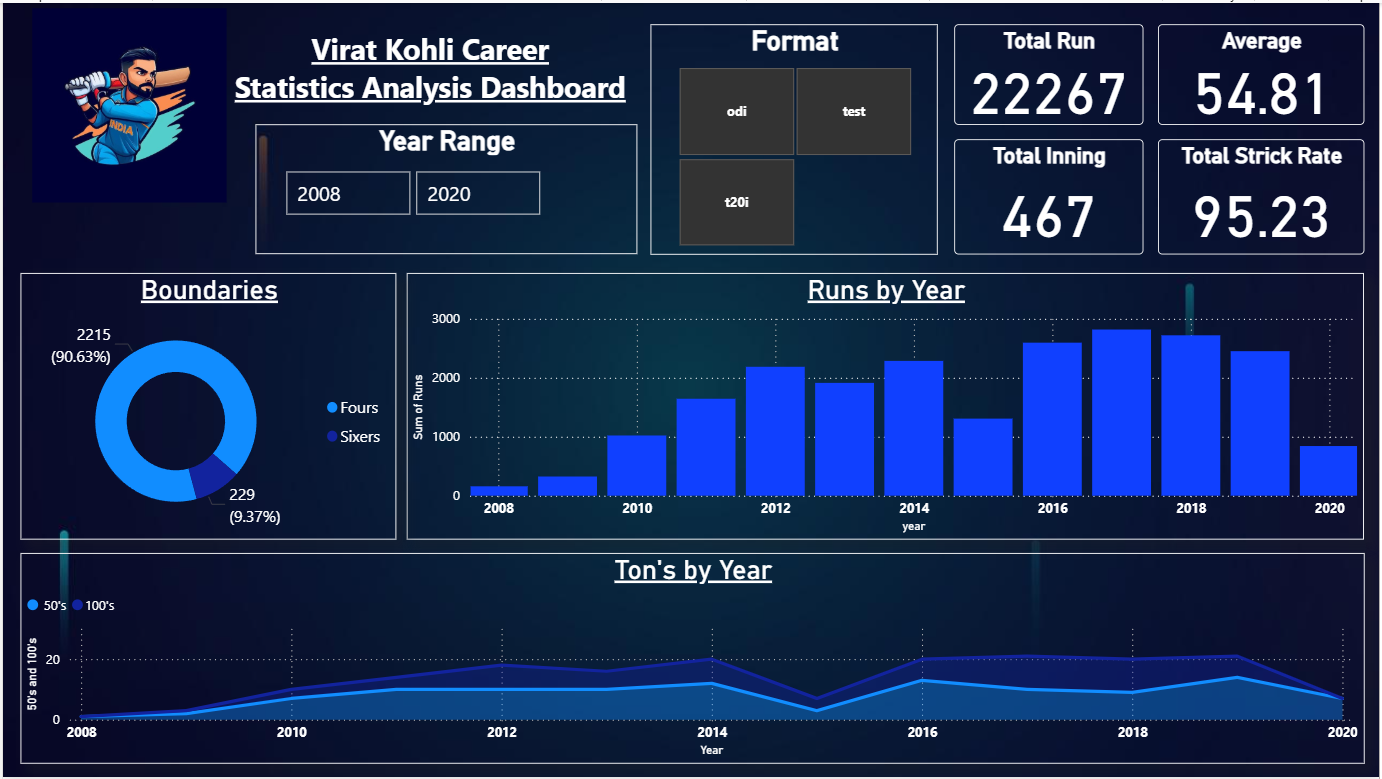

This screenshot's page, from the dashboard's own definition file:
{"tool":"powerbi","page":{"name":"Page 1","canvas":[1280,720],"ordinal":0},"visuals":[{"type":"image","box":[0,0,234.6,190.7],"z":0},{"type":"textbox","box":[204.5,19.2,385.6,124.9],"z":1000},{"type":"card","title":"Total Inning","fields":{"Values":["Samarjeet.Innings"]},"box":[885.1,126.2,175.6,107],"z":2000},{"type":"card","title":"Total Run","fields":{"Values":["Samarjeet.Runs"]},"box":[885.1,19.2,175.6,93.3],"z":3000},{"type":"card","title":"Average","fields":{"Values":["Samarjeet.Avg"]},"box":[1074.4,19.2,192.1,93.3],"z":4000},{"type":"card","title":"Total Strick Rate","fields":{"Values":["Samarjeet.SR"]},"box":[1074.4,126.2,192.1,107],"z":5000},{"type":"slicer","title":"Year Range","fields":{"Values":["Samarjeet.Year"]},"box":[234.6,112.5,355.4,120.8],"z":6000},{"type":"slicer","title":"Format","fields":{"Values":["Samarjeet.Format"]},"box":[602.4,19.2,267.6,214.1],"z":7000},{"type":"clusteredColumnChart","title":"Runs by Year","fields":{"Y":["Samarjeet.Runs"],"Category":["Samarjeet.Year"]},"box":[376,251.1,890.6,248.4],"z":8000},{"type":"donutChart","title":"Boundaries","fields":{"Y":["Samarjeet.4s","Samarjeet.6s"]},"box":[16.5,251.1,349.9,248.4],"z":9000},{"type":"stackedAreaChart","title":"Ton''s by Year","fields":{"Category":["Samarjeet.Year"],"Y":["Samarjeet.50","Samarjeet.100"]},"box":[16.5,511.8,1250.1,196.2],"z":10000}]}

Visuals, with their boxes in screenshot pixels (x1, y1, x2, y2), scaled from the page's 1280x720 canvas onto the 1382x779 screenshot:
image: locate(0, 0, 253, 206)
textbox: locate(221, 21, 637, 156)
"Total Inning" card: locate(956, 137, 1145, 252)
"Total Run" card: locate(956, 21, 1145, 122)
"Average" card: locate(1160, 21, 1367, 122)
"Total Strick Rate" card: locate(1160, 137, 1367, 252)
"Year Range" slicer: locate(253, 122, 637, 252)
"Format" slicer: locate(650, 21, 939, 252)
"Runs by Year" clusteredColumnChart: locate(406, 272, 1368, 540)
"Boundaries" donutChart: locate(18, 272, 396, 540)
"Ton''s by Year" stackedAreaChart: locate(18, 554, 1368, 766)
